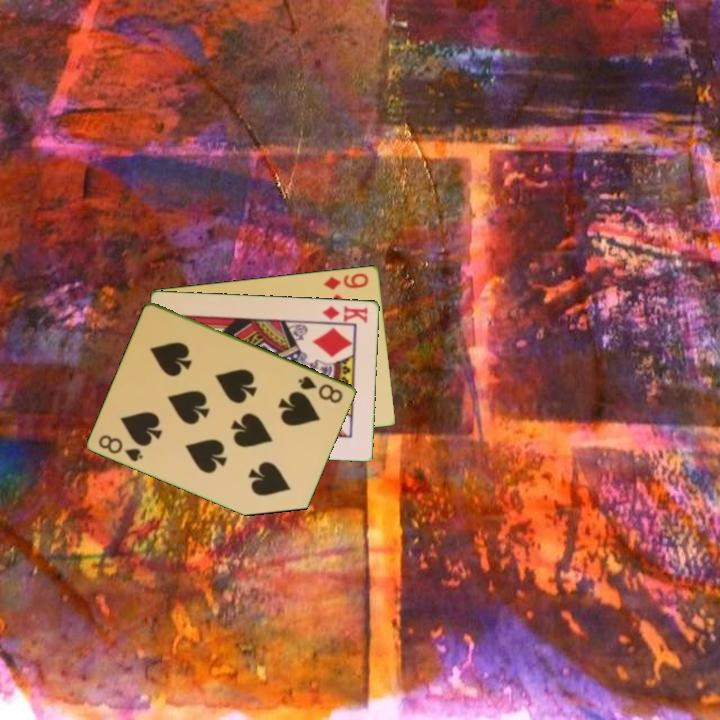8s: (295, 372, 346, 406), (95, 431, 146, 465)
9d: (321, 269, 372, 292)
Kd: (316, 302, 371, 325)
